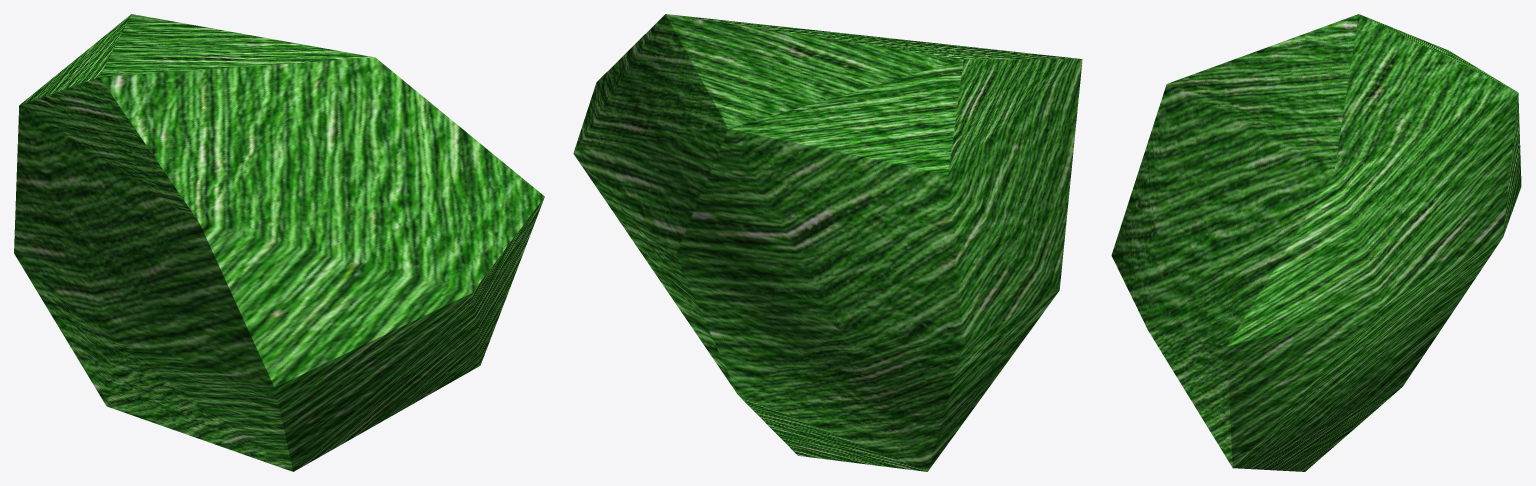
File: mm9_deco_stonegreen.glb
3 views of the same model, side by side, from view 1: azimuth 30°, elevation 25°; view 2: azimuth 150°, elevation 25°; view 3: azimuth 270°, elevation 25° (orthographic). The views are drawn at different scales.
Parts seen in each view (by area): view 1: Stonegreen; view 2: Stonegreen; view 3: Stonegreen.
Part boxes in pixels (x1,y1,x2,y2): Stonegreen: (14, 14, 544, 471); Stonegreen: (573, 14, 1082, 471); Stonegreen: (1111, 14, 1521, 471).
Bounding box in the file's own units: 0.2098 × 0.1882 × 0.1843.
Materials: 1 (1 with a texture image).
